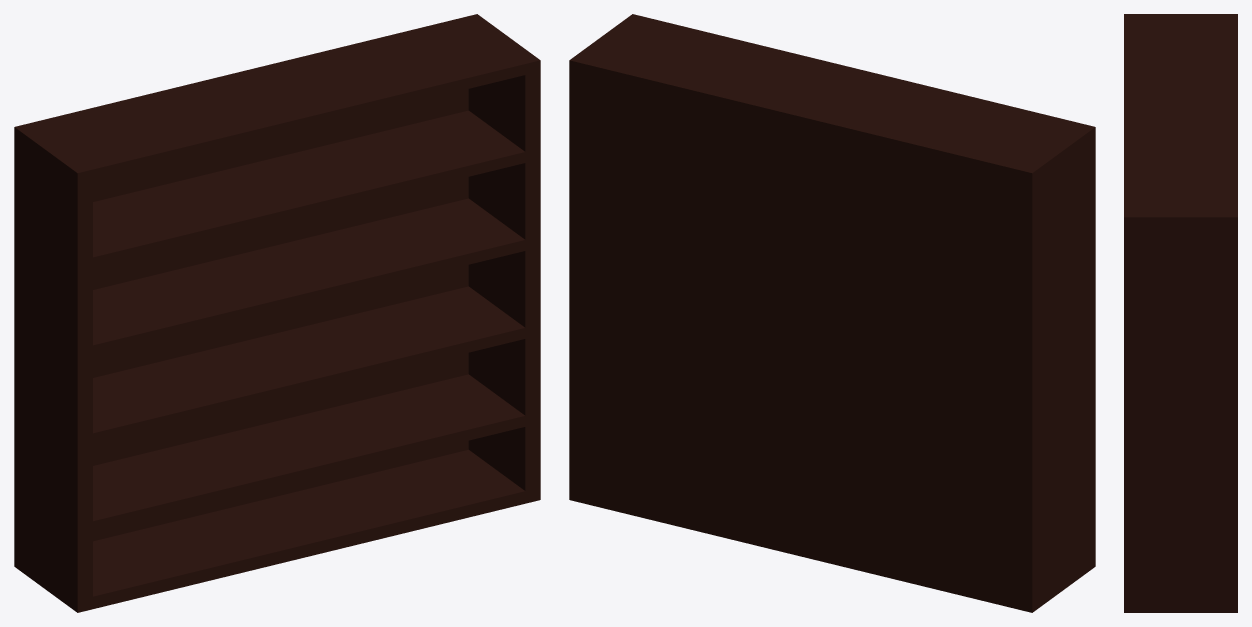
File: bookcase.fbx
3 views of the same model, side by side, from view 1: azimuth 30°, elevation 25°; view 2: azimuth 150°, elevation 25°; view 3: azimuth 270°, elevation 25° (orthographic). The views are drawn at different scales.
Parts seen in each view (by area): view 1: bookcase; view 2: bookcase; view 3: bookcase.
Boxes of the visible parts, x1,y1,x2,y2 form: bookcase: (14, 14, 540, 612); bookcase: (569, 14, 1095, 612); bookcase: (1124, 14, 1237, 612).
Size of the model in its own units: 253 by 230 by 60.
